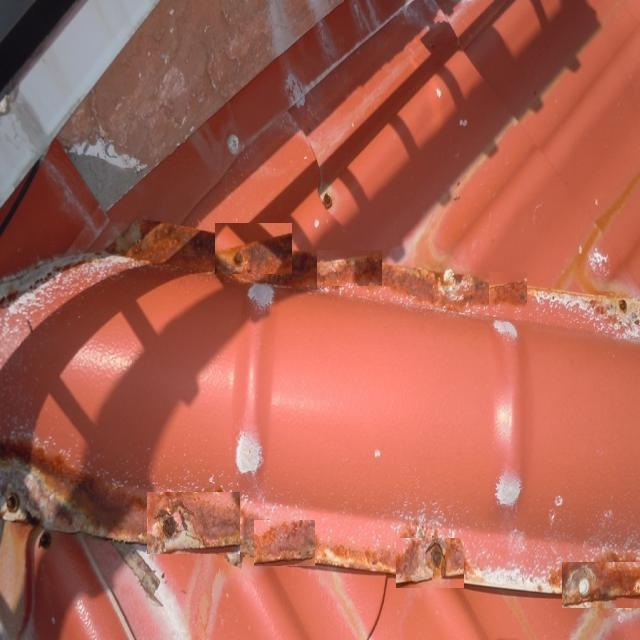Corrosion: (0, 217, 639, 618)
